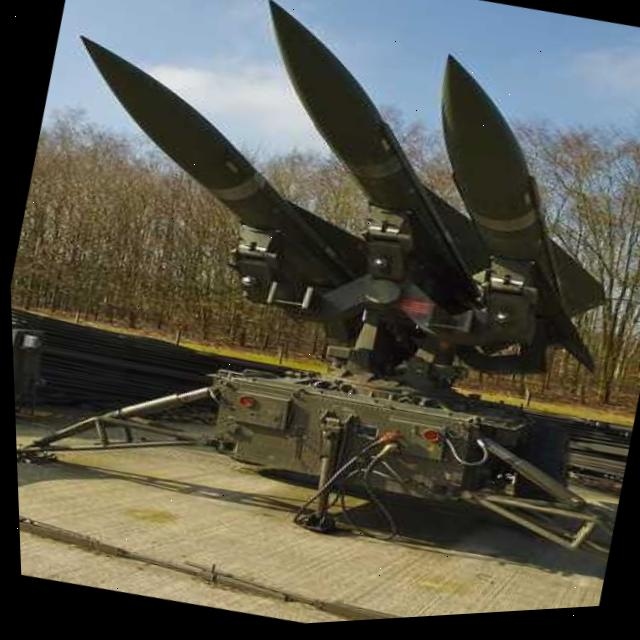missile: (25, 16, 434, 346), (207, 0, 554, 307), (376, 46, 640, 387)
